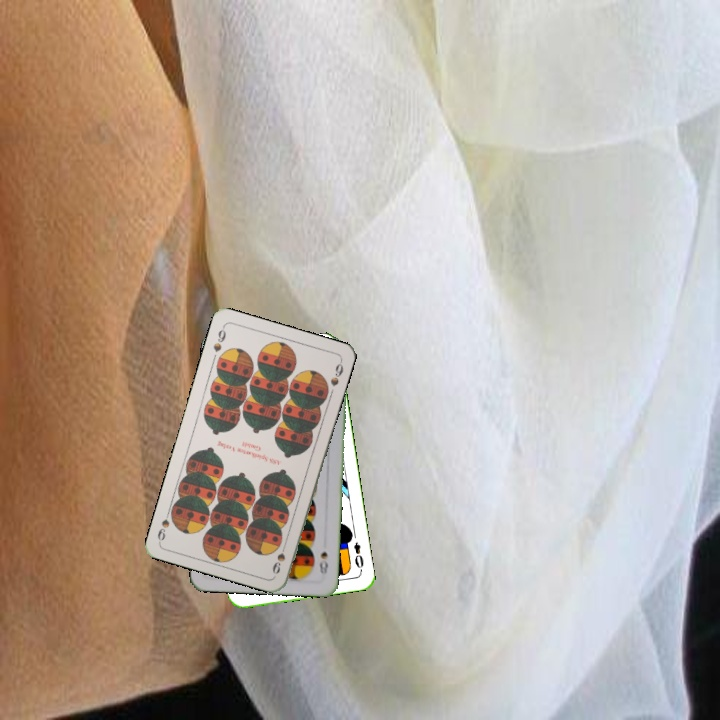EO: (350, 538, 366, 574)
S8: (315, 548, 330, 578)
S9: (268, 538, 289, 577), (209, 322, 228, 354)
